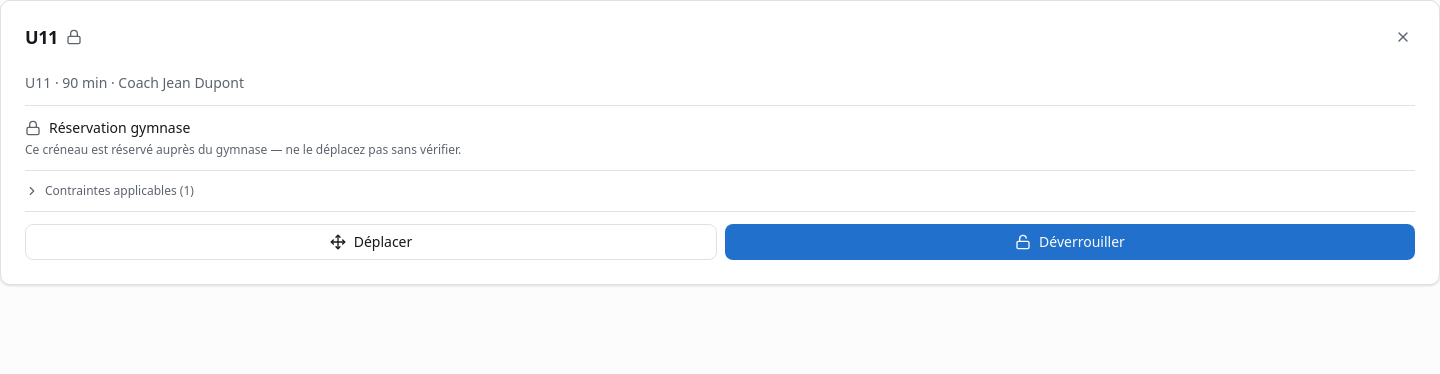
Test: SlotDetail — contraintes applicables (F1) › liste les contraintes qui s'appliquent au créneau, pas les autres
Click the button "Contraintes applicables (1)".
click(114, 190)  # box top-left (25, 183), bottom-right (1415, 199)
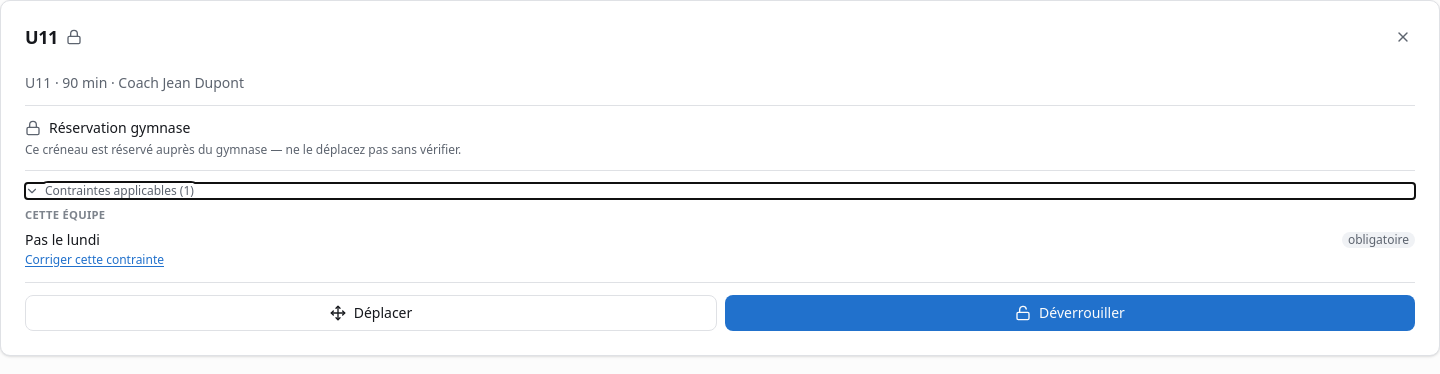
Expected: the text "Pas le lundi" is shown, top-left (25, 230), bottom-right (100, 250)
